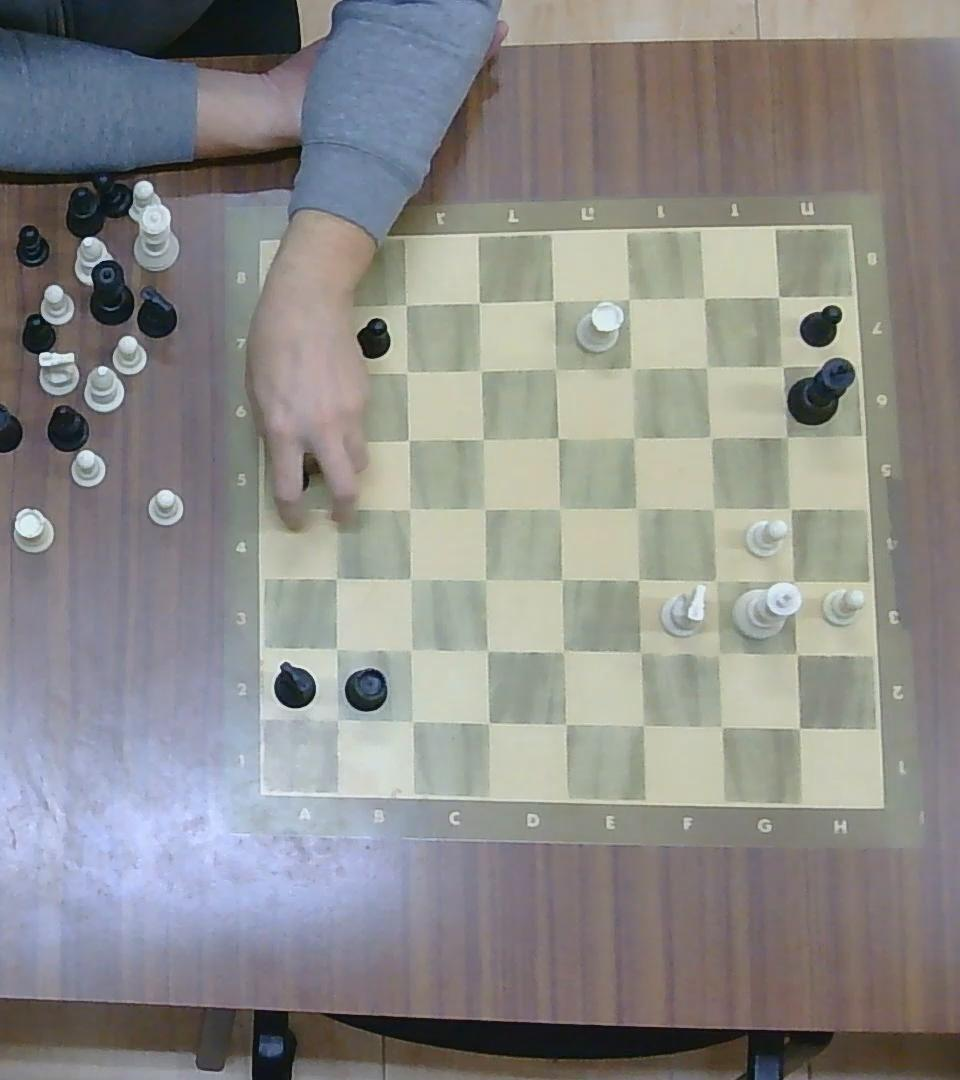xcorner: (701, 636, 734, 669), (781, 711, 815, 743), (626, 707, 658, 740), (705, 708, 736, 742), (318, 291, 349, 325), (776, 564, 808, 596), (625, 635, 656, 667), (548, 706, 579, 738), (471, 706, 502, 738), (781, 638, 812, 670), (320, 703, 352, 734), (622, 562, 652, 594), (548, 635, 578, 667), (547, 563, 577, 594), (698, 492, 728, 523), (471, 634, 501, 665), (396, 705, 427, 735), (470, 563, 500, 594), (699, 565, 730, 595), (320, 634, 350, 664), (320, 359, 350, 389), (622, 492, 651, 523), (776, 493, 806, 522), (615, 283, 644, 313), (539, 285, 568, 315), (395, 635, 425, 664), (617, 351, 646, 381), (547, 492, 575, 523), (471, 493, 500, 522), (323, 425, 351, 455), (545, 422, 573, 451), (621, 422, 649, 451), (542, 353, 570, 382), (321, 564, 350, 592), (465, 287, 493, 316), (395, 564, 424, 592), (691, 282, 719, 311), (693, 351, 721, 380), (469, 424, 497, 453), (769, 351, 797, 380), (396, 493, 423, 522), (698, 422, 725, 451), (393, 356, 420, 385), (392, 290, 420, 317), (772, 421, 800, 448), (467, 355, 493, 383), (395, 425, 421, 452), (323, 492, 349, 519), (766, 284, 791, 309)
